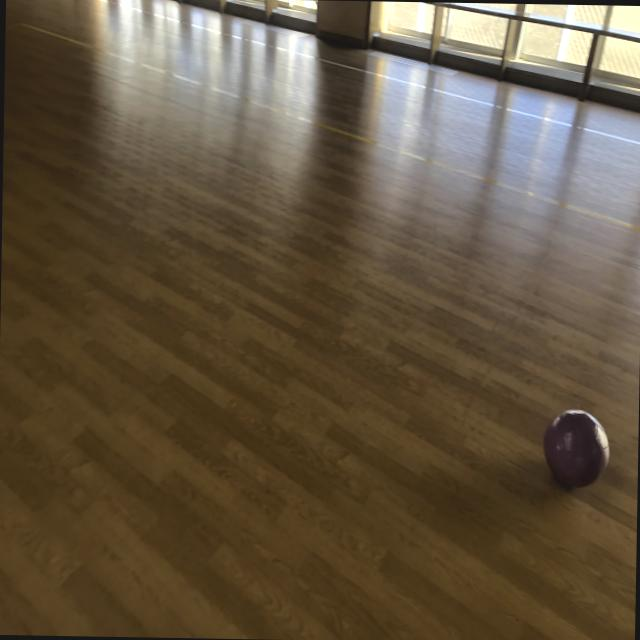purple_ball: (544, 408, 608, 491)
